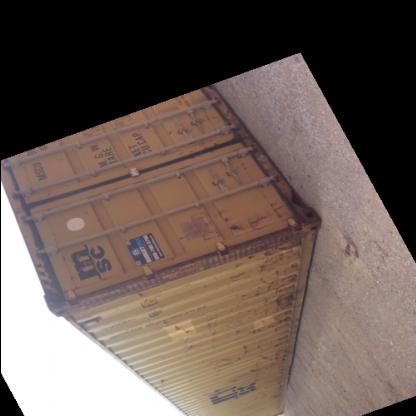Damage: (238, 239, 298, 335), (207, 206, 262, 234), (158, 318, 194, 336), (266, 337, 286, 366), (200, 312, 218, 344), (264, 196, 284, 223), (234, 341, 264, 358), (260, 387, 282, 406), (176, 338, 196, 354), (210, 355, 234, 368), (202, 386, 226, 396), (175, 394, 193, 406), (245, 364, 260, 376), (178, 374, 193, 385), (222, 376, 240, 385), (154, 374, 165, 384), (156, 353, 168, 361), (132, 291, 142, 300)
